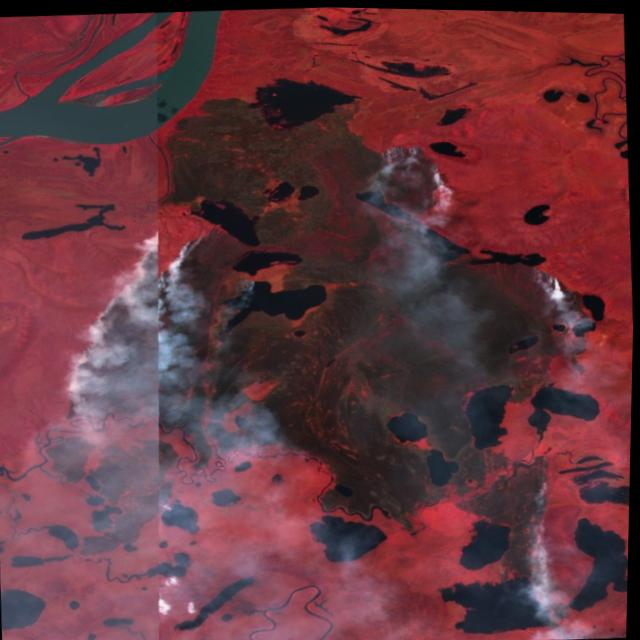fire: (352, 129, 622, 640), (43, 219, 195, 428)
